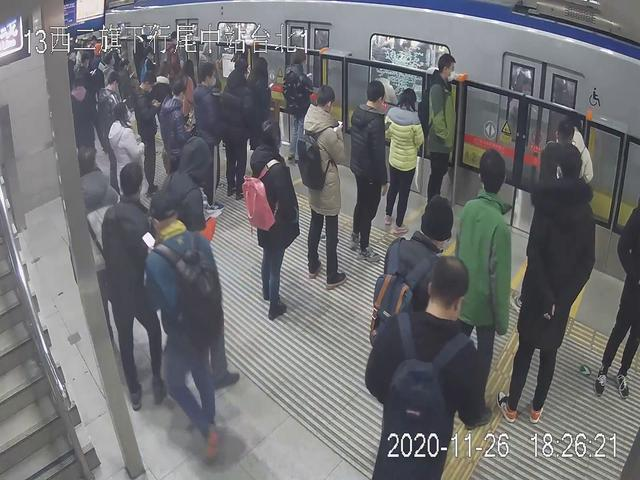person: (506, 144, 593, 421), (381, 253, 476, 480), (146, 192, 221, 466), (107, 162, 167, 407), (459, 146, 508, 431), (300, 81, 346, 294), (248, 120, 292, 320), (351, 75, 384, 262), (422, 49, 454, 208), (386, 88, 414, 237), (192, 62, 224, 192), (223, 57, 252, 199)
